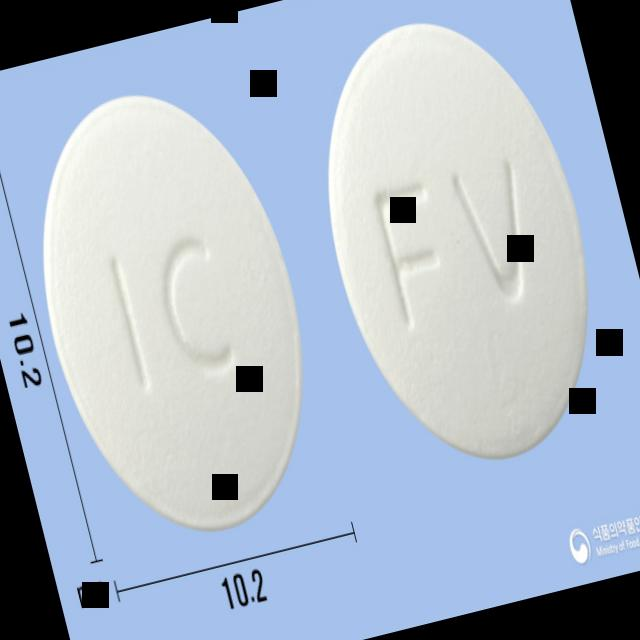Ciproctan: (0, 66, 345, 557), (286, 0, 629, 485)
